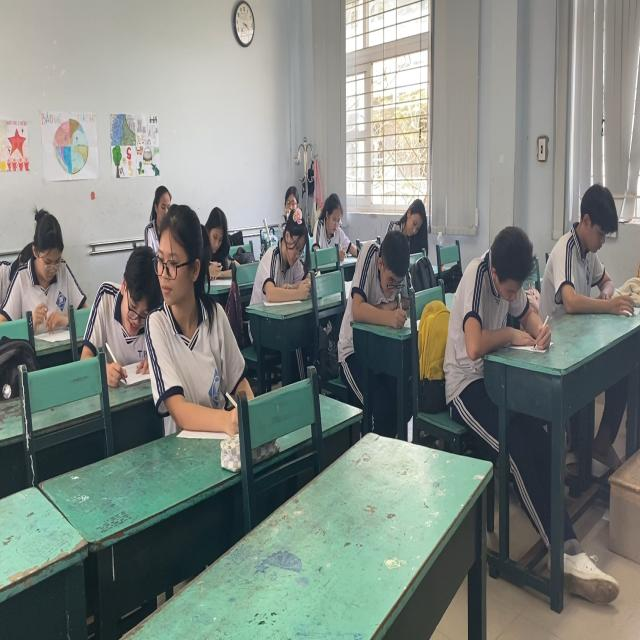cheating: (140, 188, 234, 416)
not_cheating: (541, 164, 640, 332), (455, 226, 551, 358), (0, 201, 89, 318), (80, 254, 156, 367), (342, 226, 410, 337), (257, 211, 315, 315), (310, 178, 352, 260), (391, 198, 436, 250)
